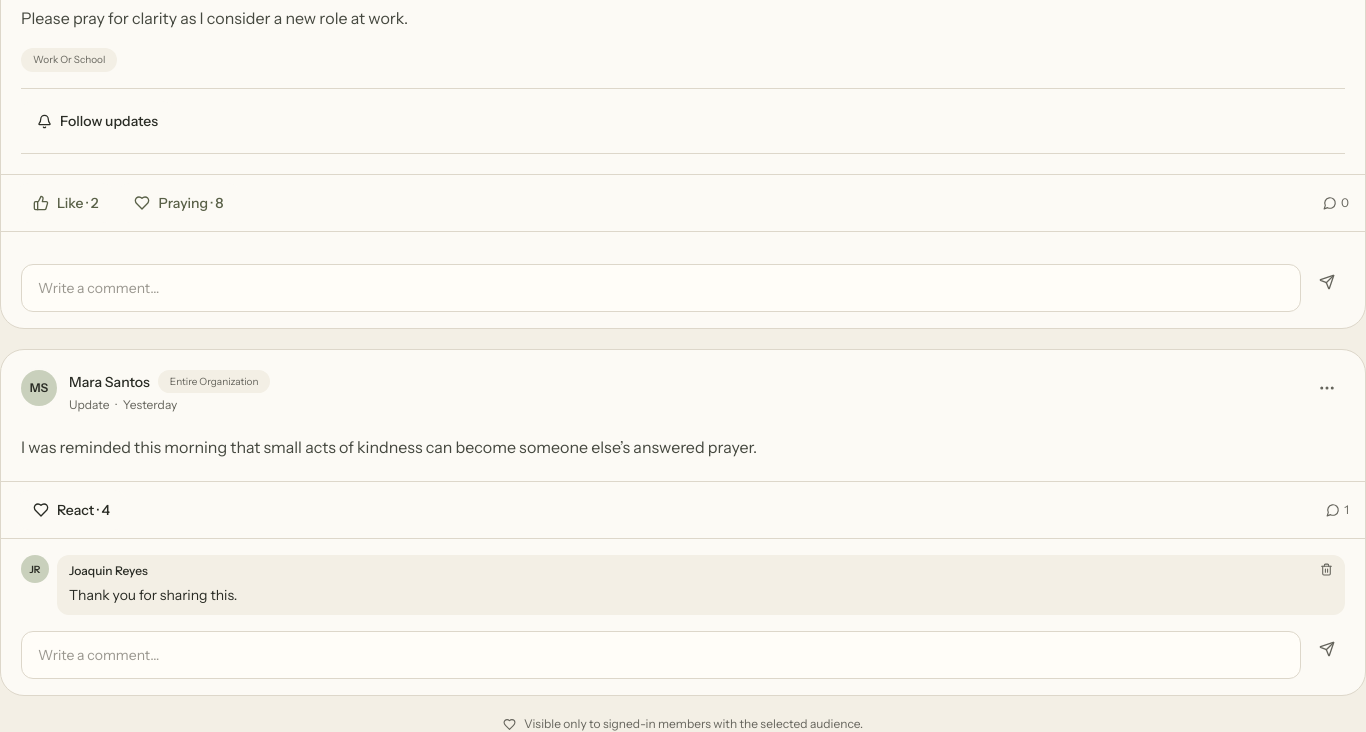
Test: CommunityFeed › offers familiar reactions, saving, and personal hiding
(page scrolled)
What coordinates should you click on to do the following:
click the button named "choose a reaction"
I would click on:
 (72, 510)
Its box is [17,490,126,530].
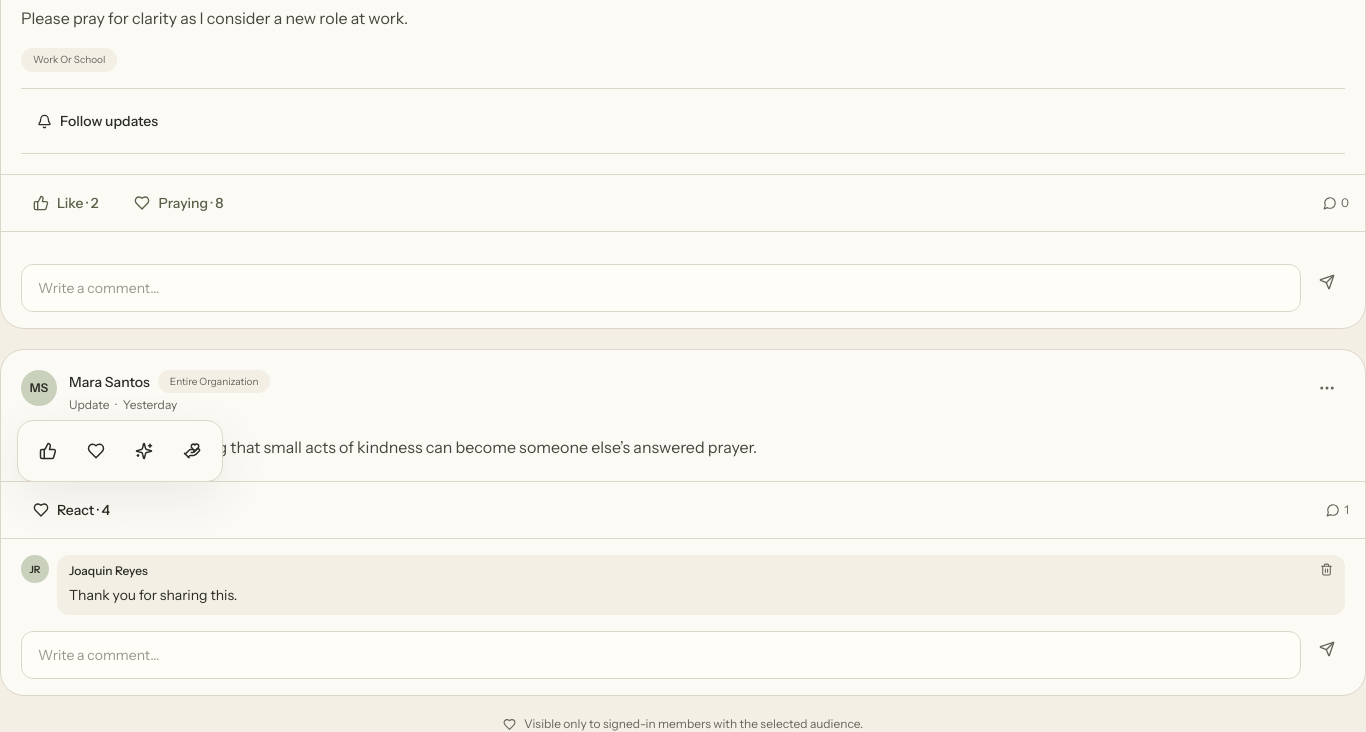
What coordinates should you click on to do the following:
click the menu item named "Amen"
I would click on:
 (96, 451)
Its box is [74,429,118,473].
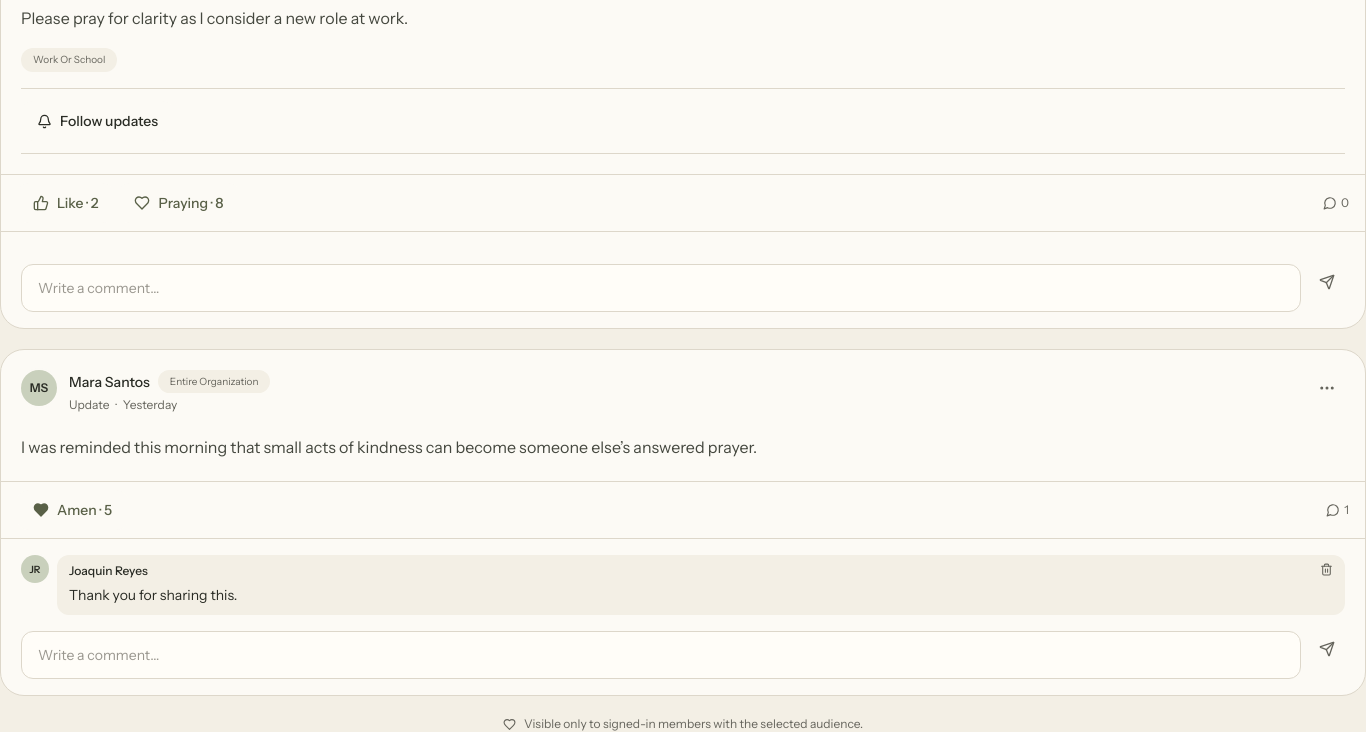
Check: the button "Amen · 5" is shown, box [17,490,128,530]
What coordinates should you click on to do the following:
click the button named "Post actions"
I would click on:
 (1327, 388)
Its box is [1309,370,1345,406].
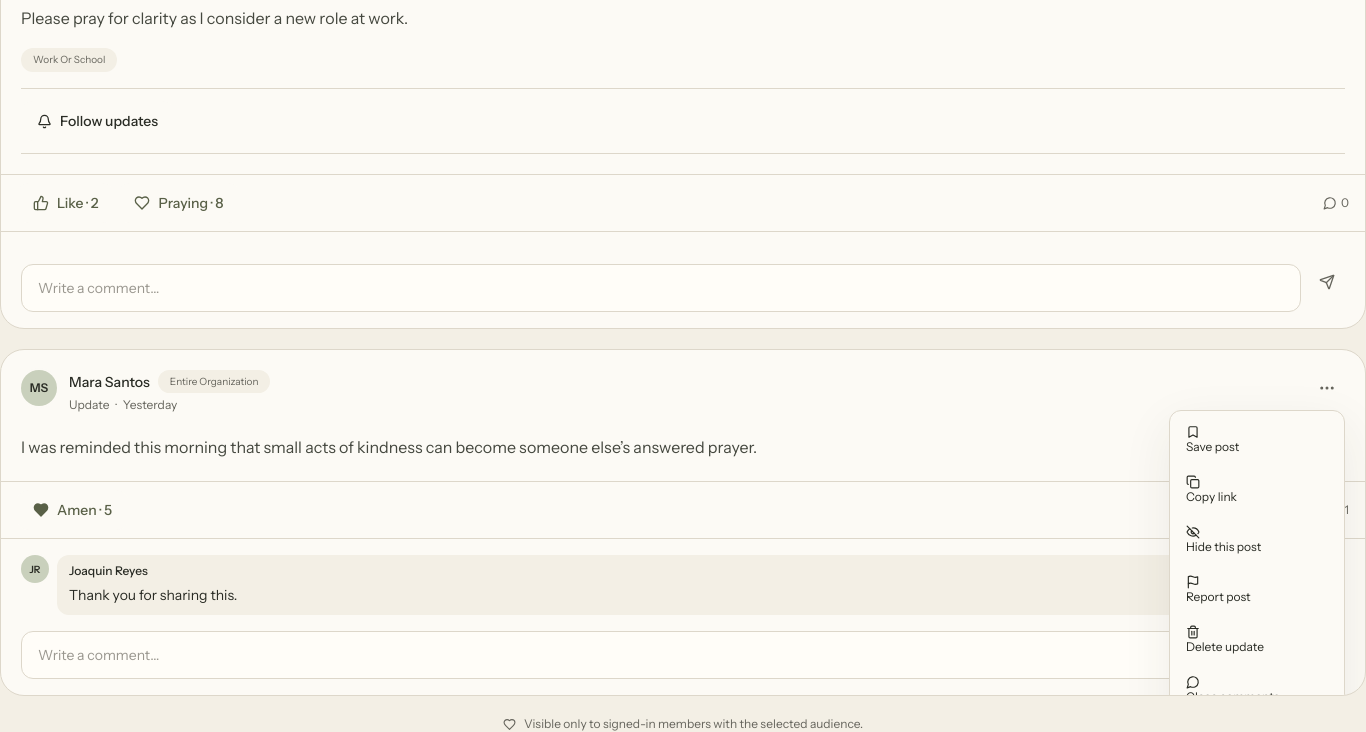
What coordinates should you click on to do the following:
click the menu item "Save post"
I would click on:
 (1257, 440)
Its box is [1170,415,1344,465].
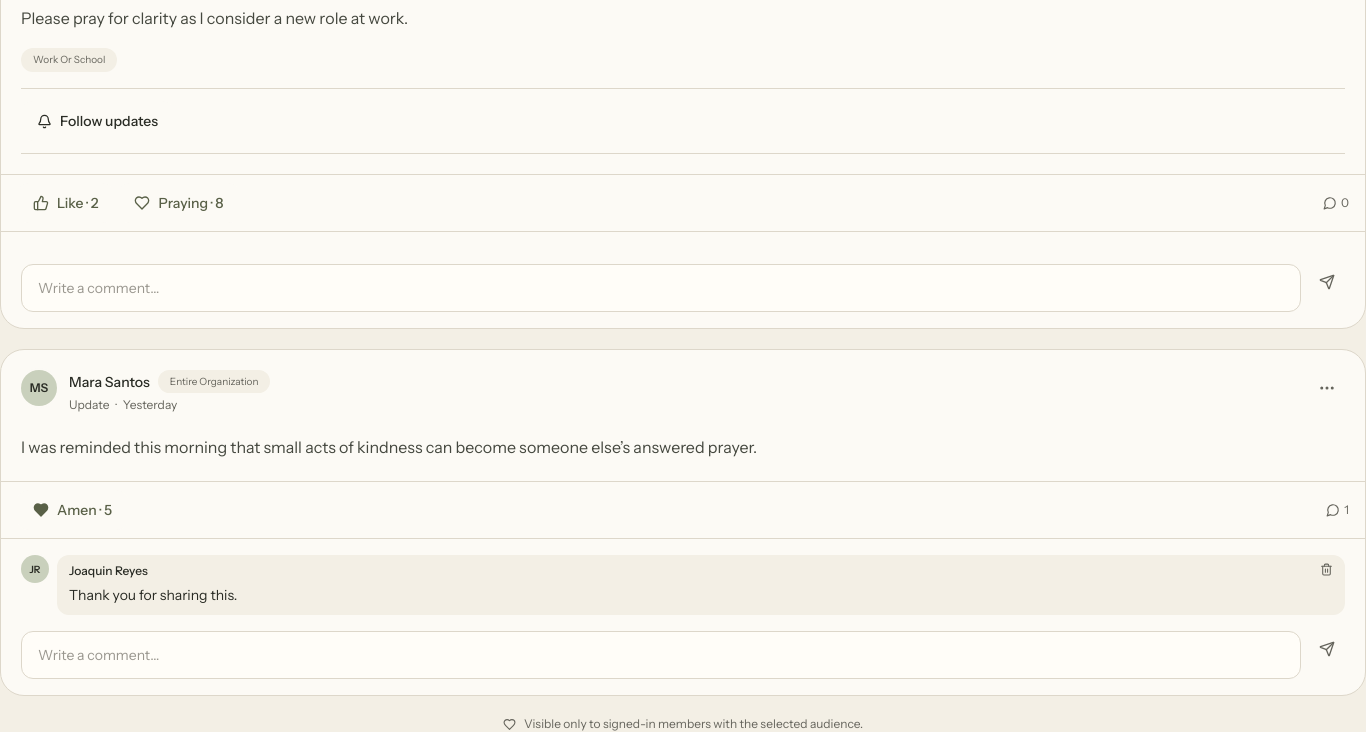
What coordinates should you click on to do the following:
click the button named "Post actions"
I would click on:
 (1327, 388)
Its box is [1309,370,1345,406].
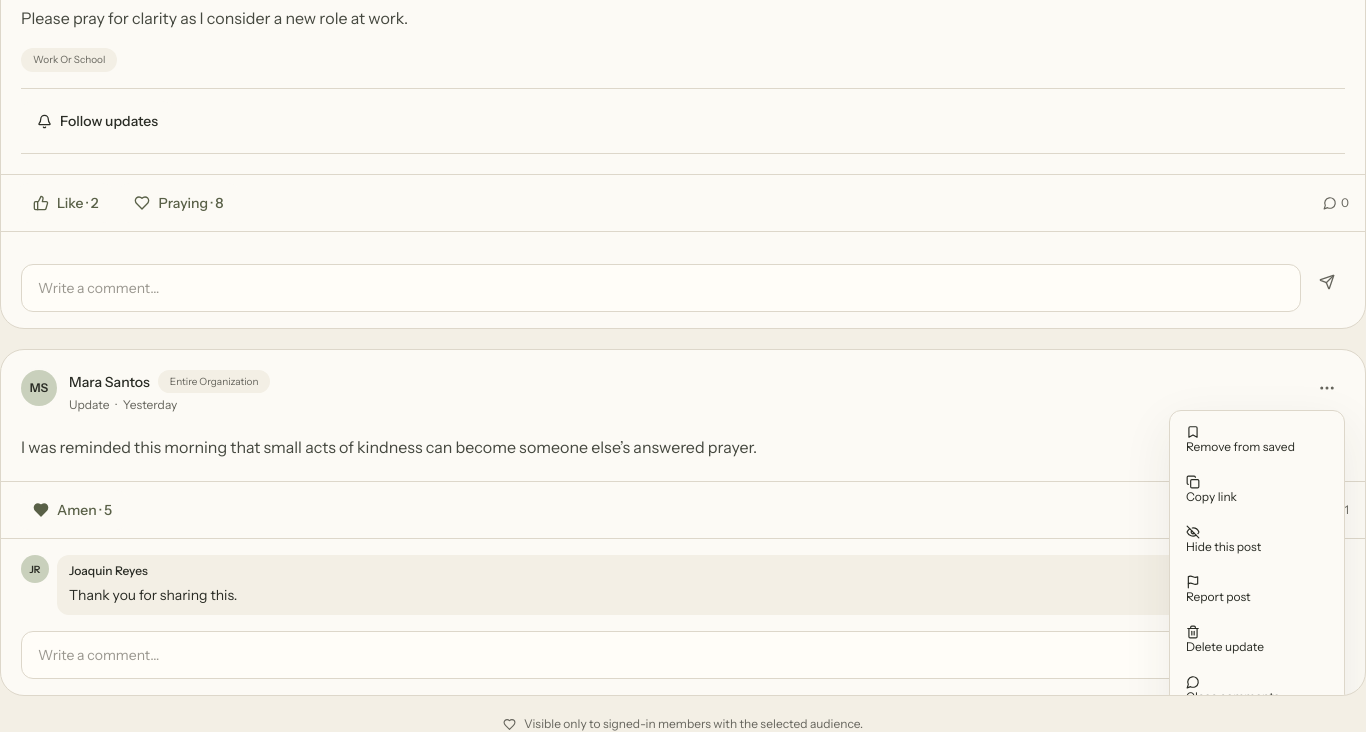
Check: the menu item "Remove from saved" is shown, box [1170,415,1344,465]
What coordinates should you click on to do the following:
click the menu item "Hide this post"
I would click on:
 (1257, 540)
Its box is [1170,515,1344,565].
(page scrolled)
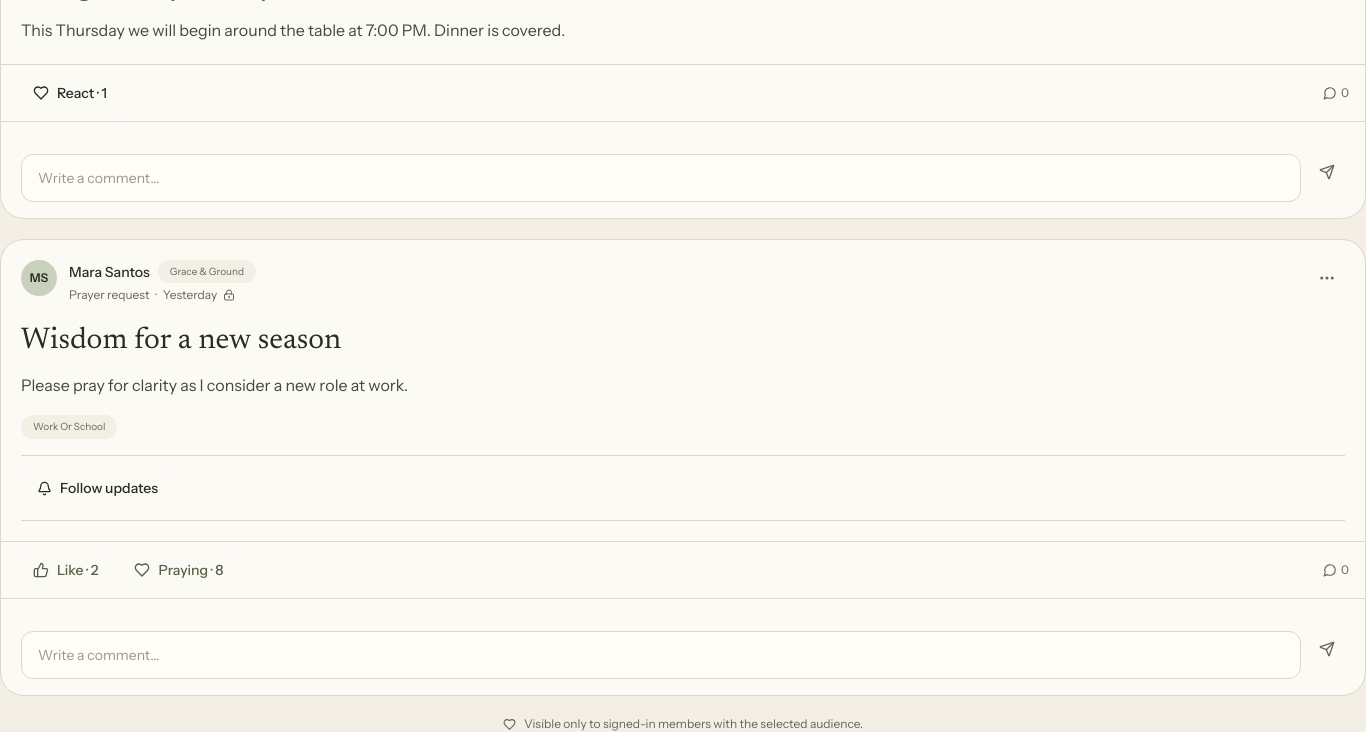
Check: the text "small acts of kindness" is gone
